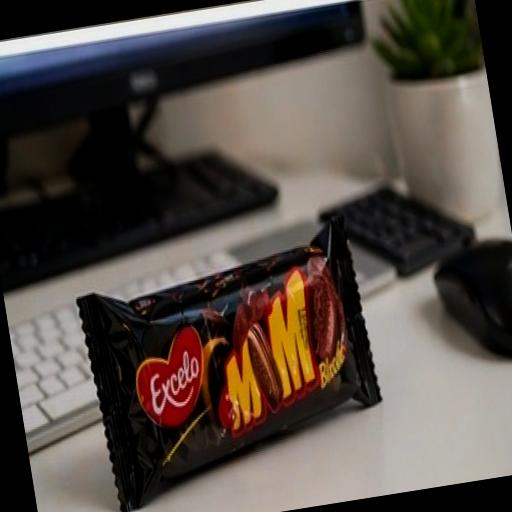MOMO: (56, 208, 395, 494)
